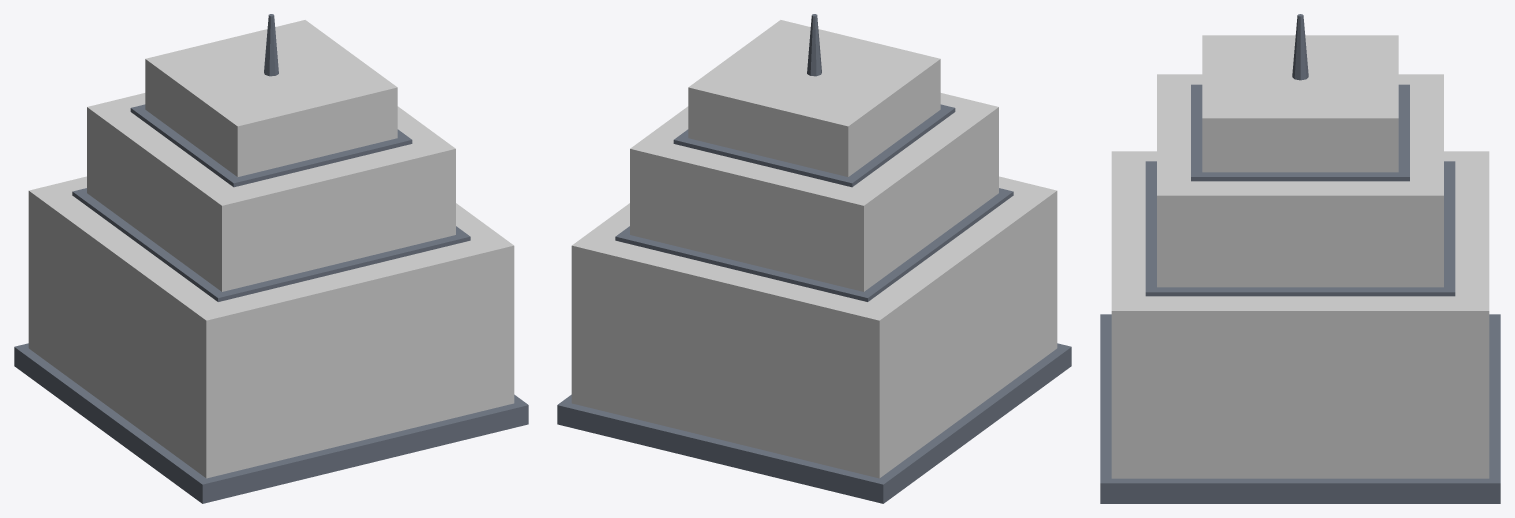
Rendered from bldg_stepped.glb.
3 renders of one model, left to right at view 1: azimuth 30°, elevation 25°; view 2: azimuth 150°, elevation 25°; view 3: azimuth 270°, elevation 25°, orthographic. The views are drawn at different scales.
Parts seen in each view (by area): view 1: bldg_stepped; view 2: bldg_stepped; view 3: bldg_stepped.
Part boxes in pixels (<box>): bldg_stepped: <box>14,14,528,503</box>; bldg_stepped: <box>557,14,1071,503</box>; bldg_stepped: <box>1100,14,1500,503</box>.
Size of the model in its own units: 1.06 by 1.18 by 1.06.
